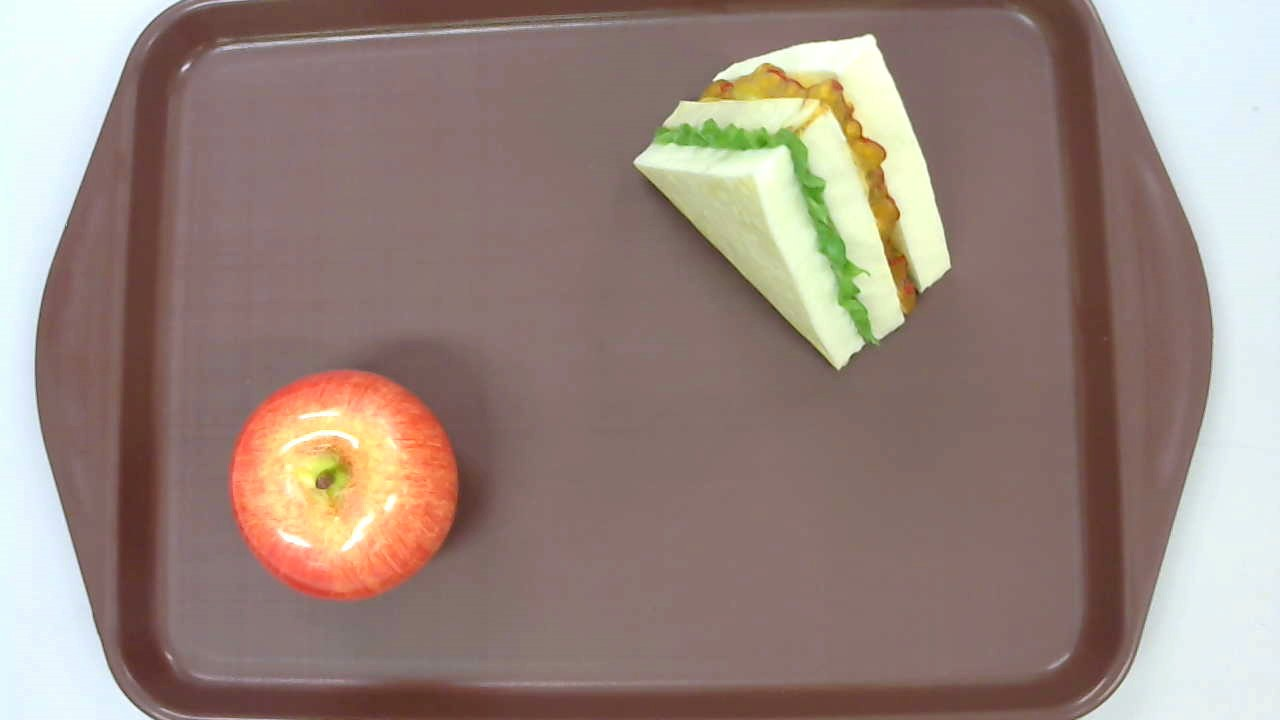red apple: (227, 368, 458, 602)
sandwich: (630, 32, 952, 373)
